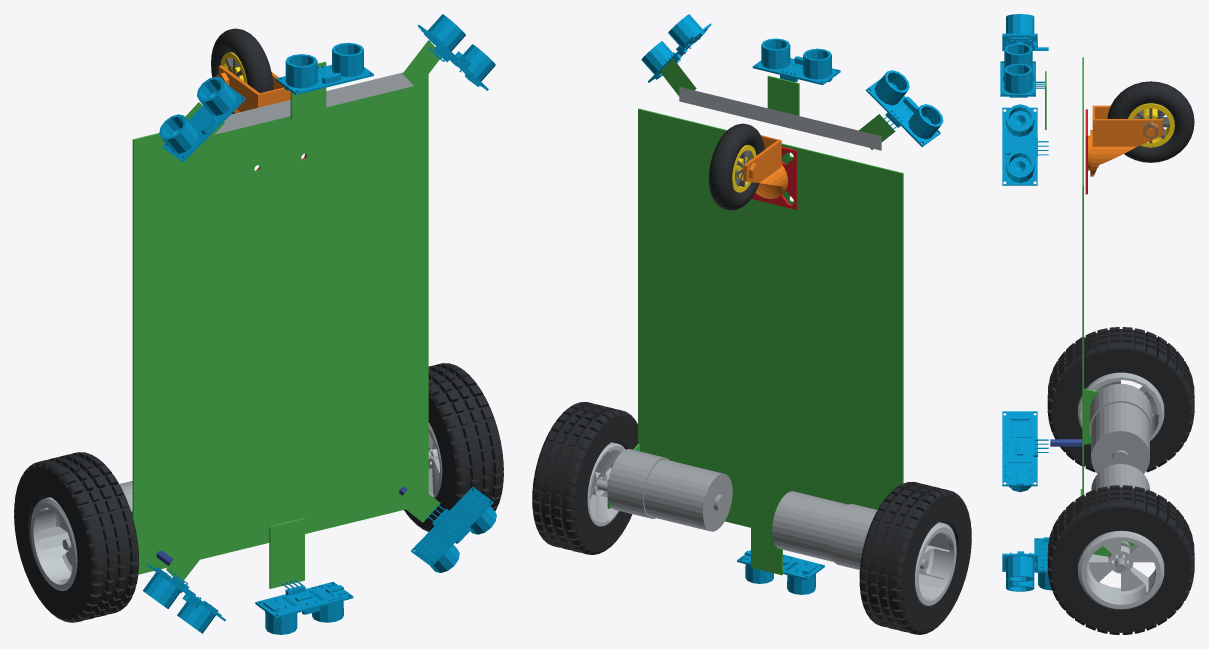
File: tinker.obj
3 views of the same model, side by side, from view 1: azimuth 30°, elevation 25°; view 2: azimuth 150°, elevation 25°; view 3: azimuth 270°, elevation 25° (orthographic). The views are drawn at different scales.
Visible parts, largest first — view 1: group_0_4634441, group_0_2829873, group_0_40919, group_0_12568524, group_0_16089887; view 2: group_0_4634441, group_0_2829873, group_0_10988977, group_0_40919, group_0_12568524, group_0_16089887, group_0_15277357; view 3: group_0_2829873, group_0_40919, group_0_12568524, group_0_10988977, group_0_16089887, group_0_4634441, group_0_16768282, group_0_6383466.
Part boxes in pixels (x1=…): group_0_4634441: x1=131, y1=40, x2=440, y2=588; group_0_2829873: x1=14, y1=28, x2=503, y2=622; group_0_40919: x1=143, y1=14, x2=496, y2=634; group_0_12568524: x1=31, y1=72, x2=442, y2=590; group_0_16089887: x1=216, y1=65, x2=290, y2=113; group_0_4634441: x1=607, y1=58, x2=903, y2=575; group_0_2829873: x1=532, y1=123, x2=971, y2=634; group_0_10988977: x1=597, y1=449, x2=928, y2=569; group_0_40919: x1=641, y1=14, x2=943, y2=594; group_0_12568524: x1=587, y1=87, x2=956, y2=606; group_0_16089887: x1=742, y1=135, x2=787, y2=198; group_0_15277357: x1=751, y1=146, x2=797, y2=209; group_0_2829873: x1=1047, y1=81, x2=1194, y2=634; group_0_40919: x1=1000, y1=14, x2=1051, y2=591; group_0_12568524: x1=1078, y1=372, x2=1164, y2=609; group_0_10988977: x1=1089, y1=383, x2=1151, y2=572; group_0_16089887: x1=1088, y1=105, x2=1162, y2=176; group_0_4634441: x1=1045, y1=57, x2=1133, y2=556; group_0_16768282: x1=1128, y1=103, x2=1174, y2=147; group_0_6383466: x1=1133, y1=108, x2=1169, y2=143.
Size of the model in its own units: 237 by 325 by 109.
